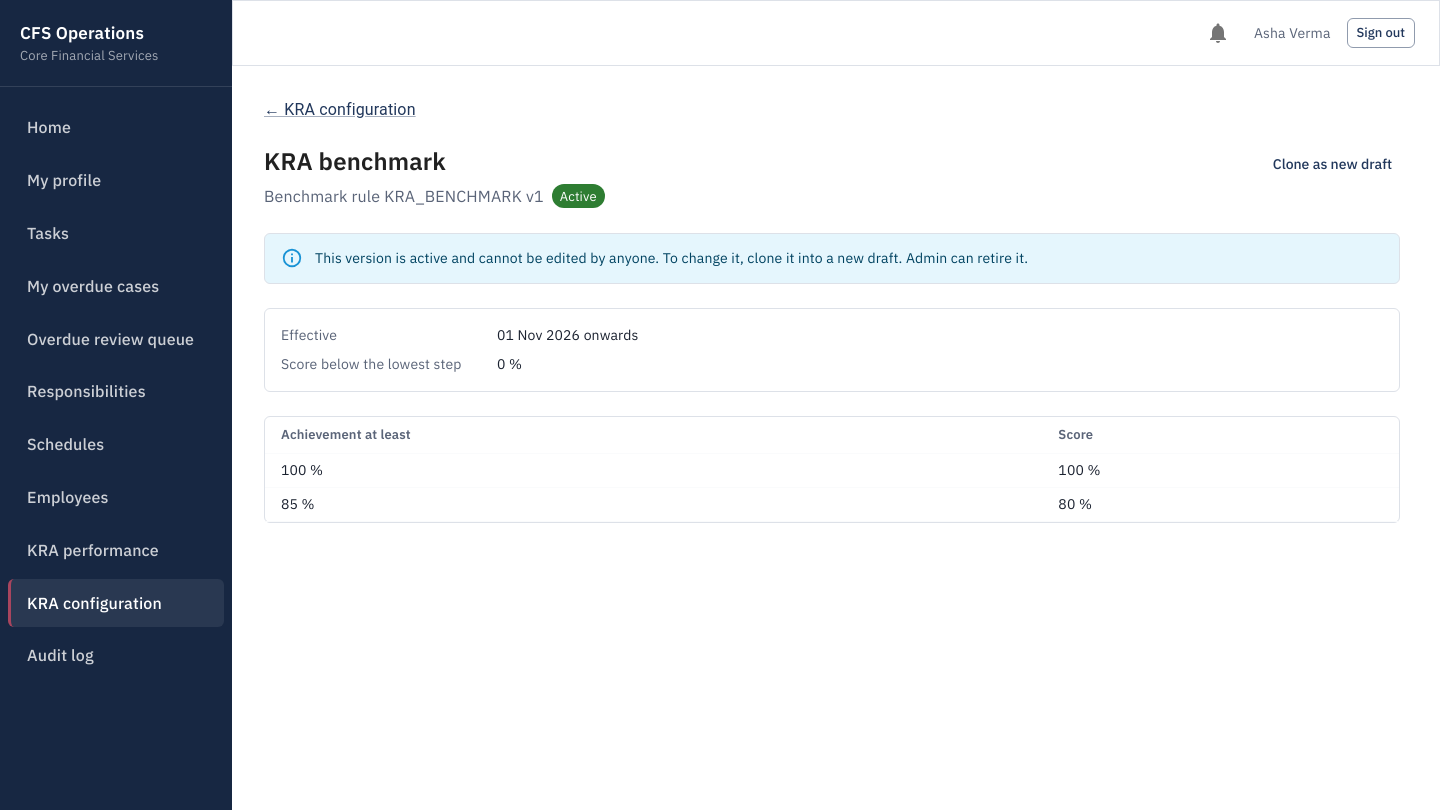
Test: Benchmark rules and band schemes (Phase 7.5A) › clones a rule into a new draft and opens it
The width and height of the screenshot is (1440, 810).
What coordinates should you click on to do the following:
click the button "Clone as new draft"
I would click on:
 (1332, 164)
Its box is x1=1265 y1=146 x2=1400 y2=182.
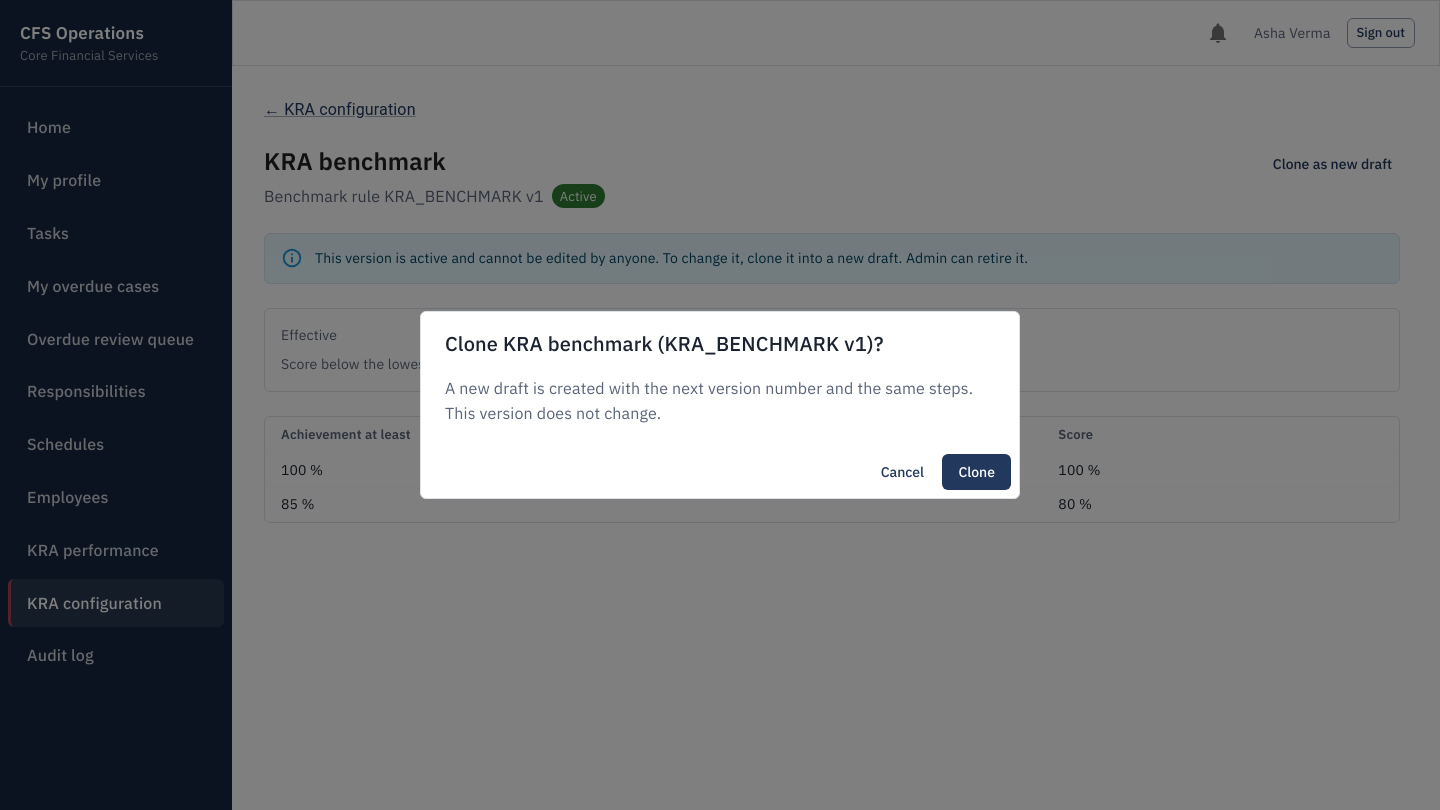
What coordinates should you click on to do the following:
click the button "Clone"
I would click on:
 (977, 472)
Its box is x1=942 y1=454 x2=1011 y2=490.
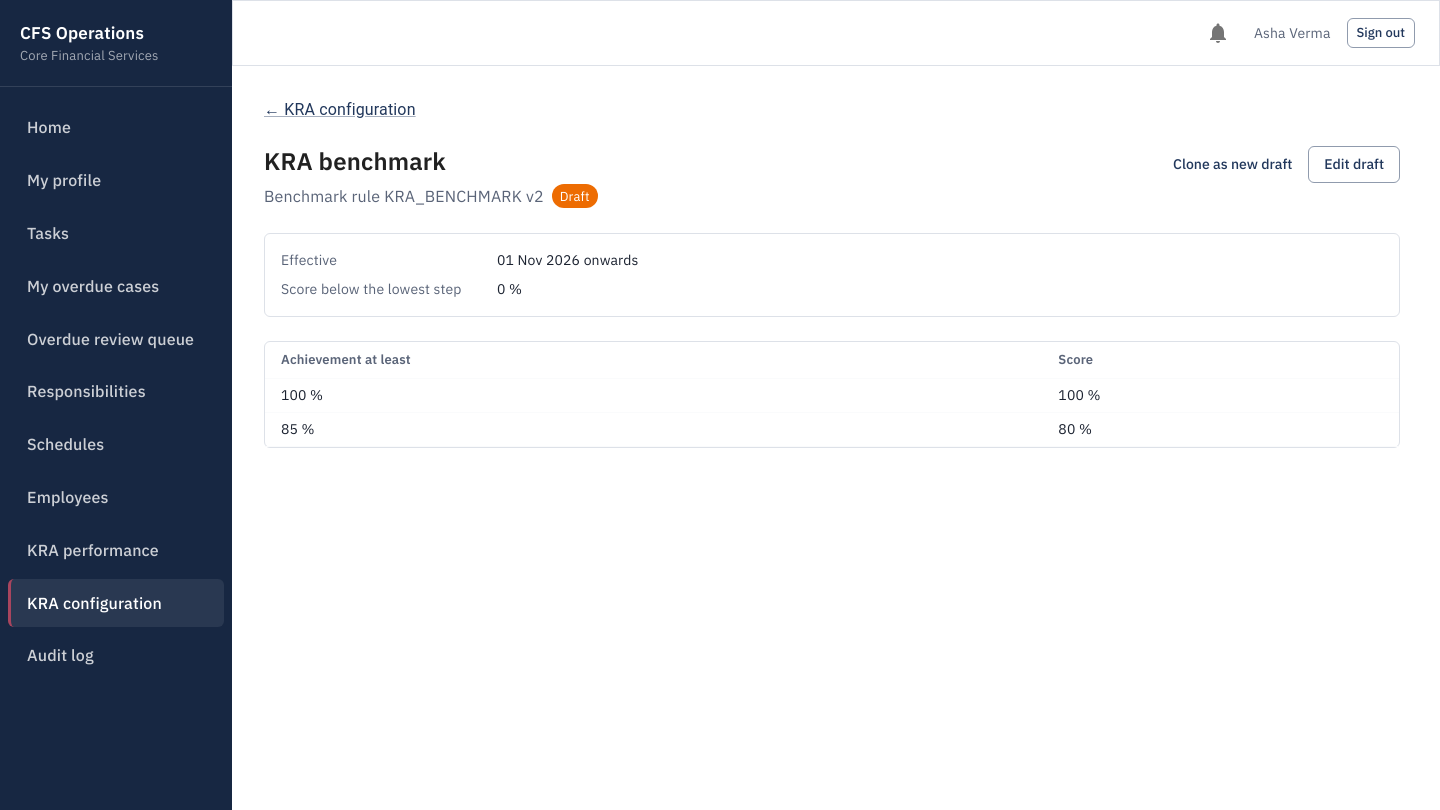
expect the text "Benchmark rule KRA_BENCHMARK v2" is shown: met, box x1=264 y1=184 x2=544 y2=209
